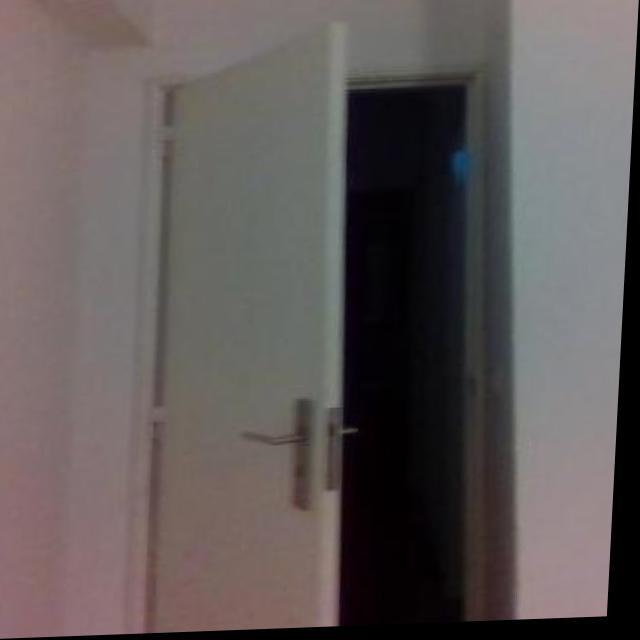door_handle: (234, 420, 317, 460)
